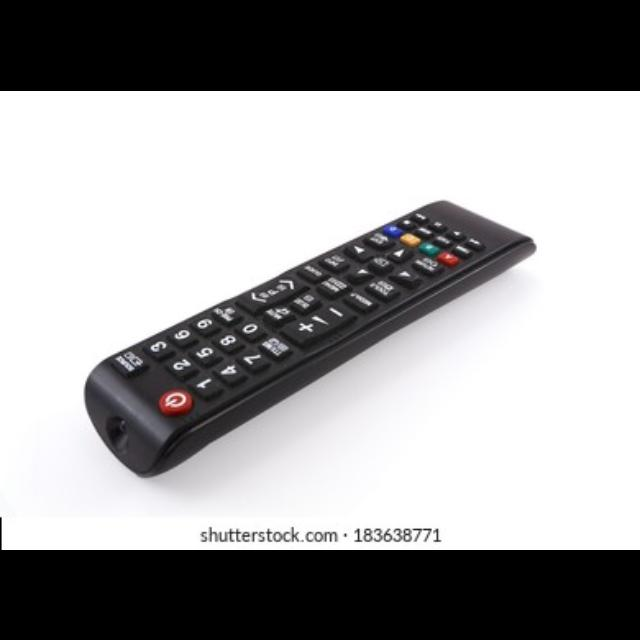TV-Remote-Control: (82, 200, 537, 477)
